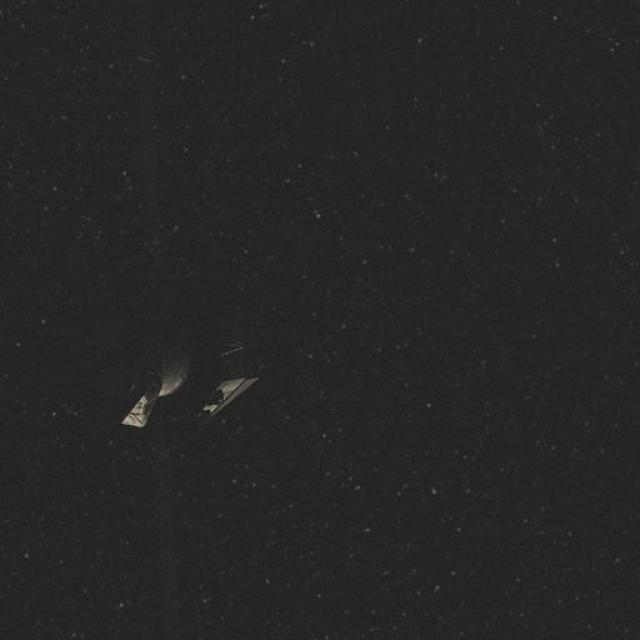xmm_newton: (53, 268, 351, 446)
